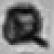not correct: (1, 3, 52, 52)
